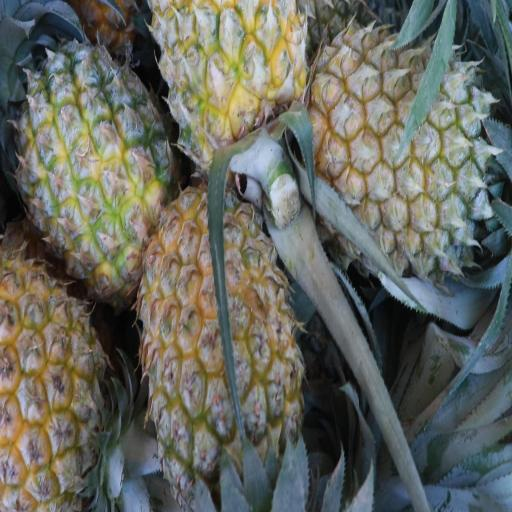------------------------------: (147, 196, 296, 494)
Pineapple - v8 v1: (20, 35, 166, 277), (0, 248, 127, 512), (160, 0, 308, 166)
